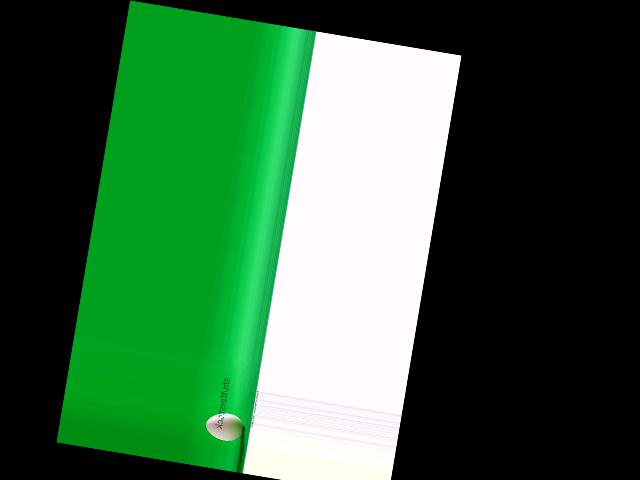egg: (204, 410, 246, 444)
